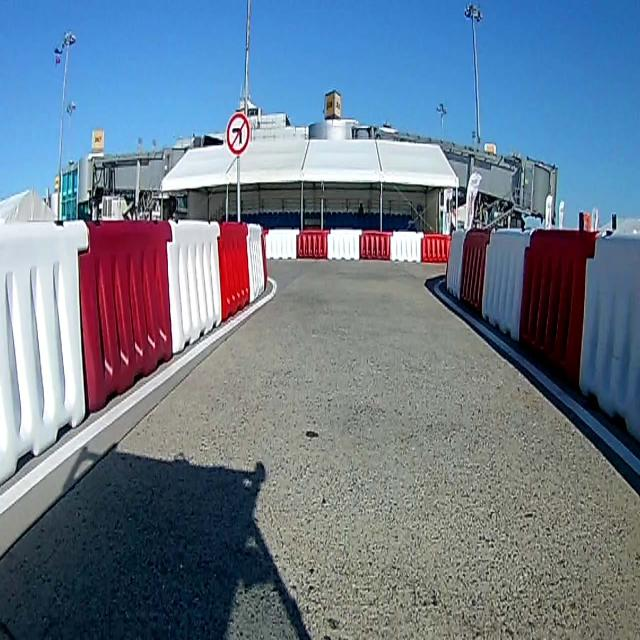soladonulmez: (226, 113, 249, 155)
